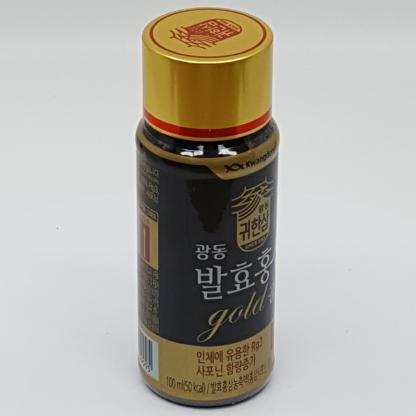-------100ml: (134, 7, 280, 408)
